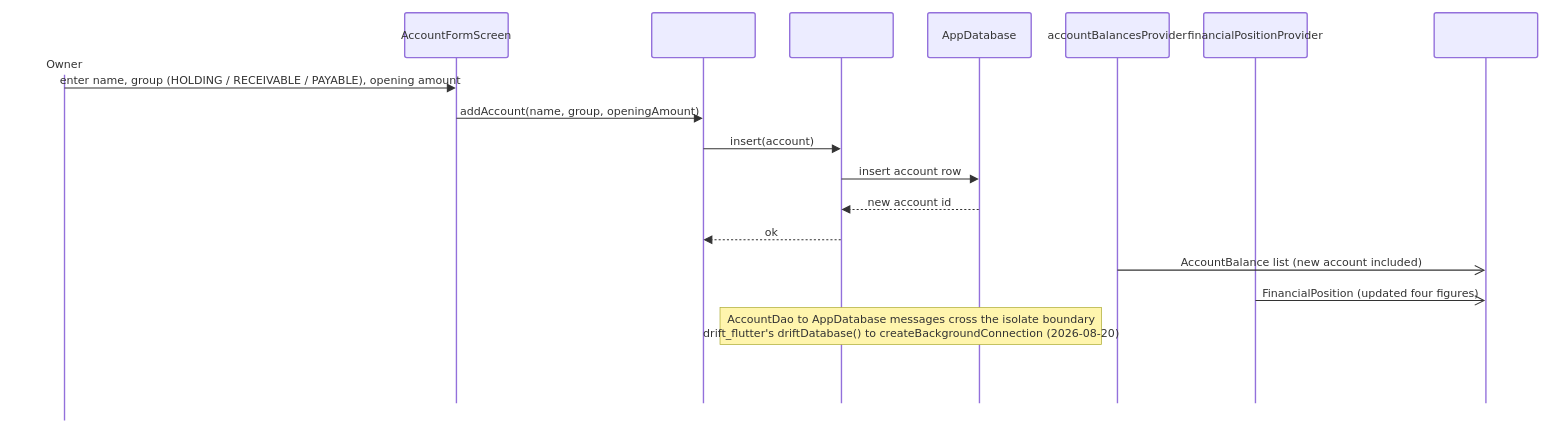
The diagram is 1555 pixels wide and 433 high, and some of its shapes have lost their labels. Here are the shapes that lost their labels. From the top down, the box of each, then its label:
(651, 12, 756, 404): AccountsNotifier
(789, 12, 894, 404): AccountDao
(1433, 12, 1538, 404): BalanceSheetScreen
